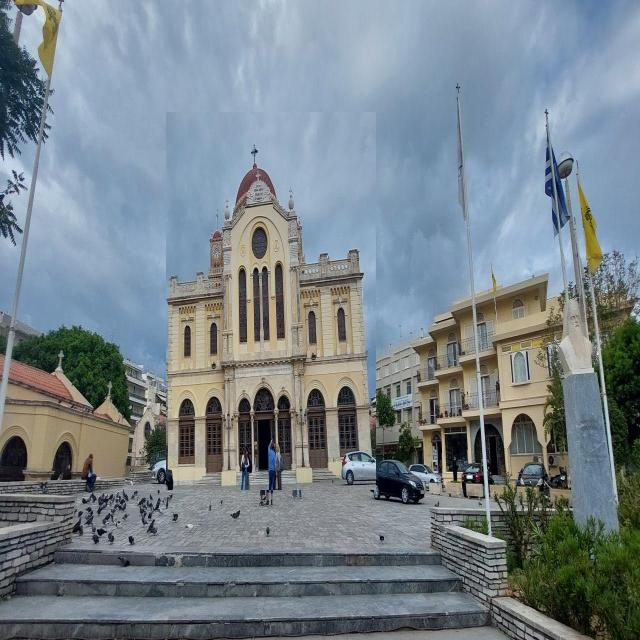Agios Minas: (167, 113, 377, 491)
